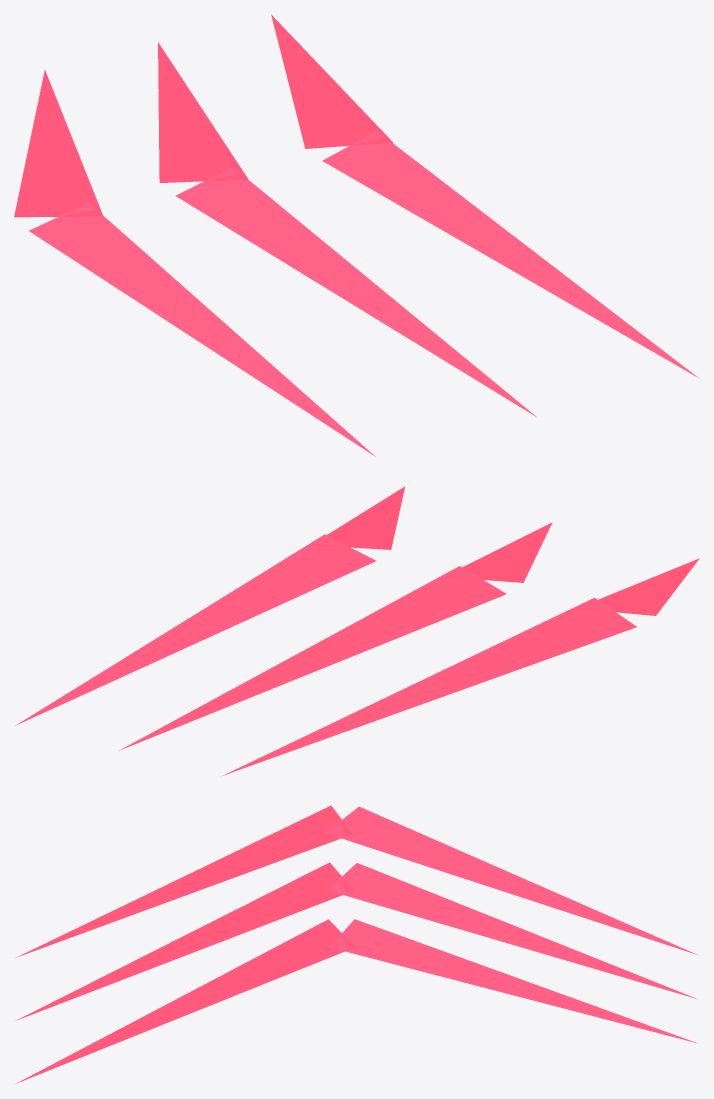
The model's file is contact_reap.glb.
The picture shows the model from 3 angles, top to bottom: view 1: azimuth 30°, elevation 25°; view 2: azimuth 150°, elevation 25°; view 3: azimuth 270°, elevation 25°; orthographic projection. The views are drawn at different scales.
Visible parts, largest first — view 1: contact_reap sparse contact artwork; view 2: contact_reap sparse contact artwork; view 3: contact_reap sparse contact artwork.
Boxes of the visible parts, x1,y1,x2,y2 form: contact_reap sparse contact artwork: (14,14,698,456); contact_reap sparse contact artwork: (15,486,699,775); contact_reap sparse contact artwork: (14,805,698,1083).
Bounding box in the file's own units: 0.2929 × 0.07 × 0.46.
